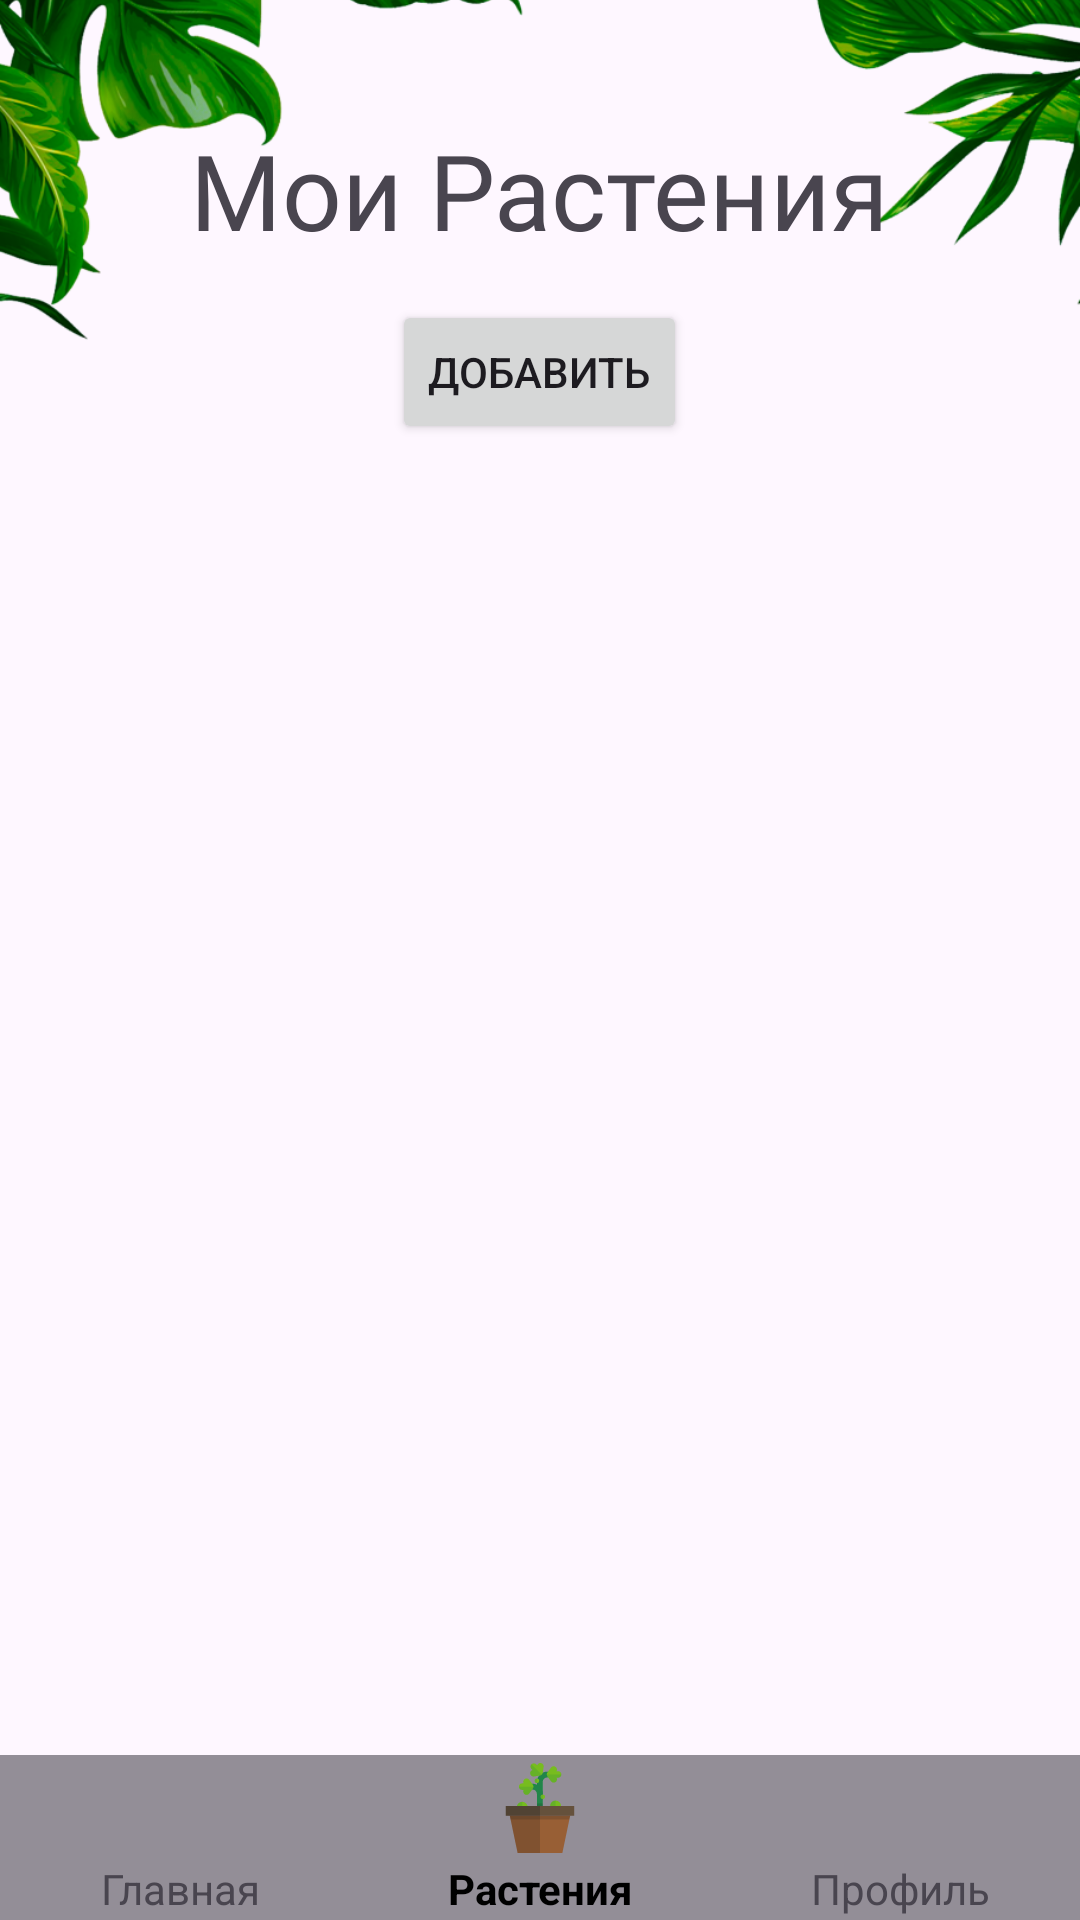

Named icons in this screenshot (1080 × 1920) and their centers, point (x, y):
flower pot: point (539, 1808)
